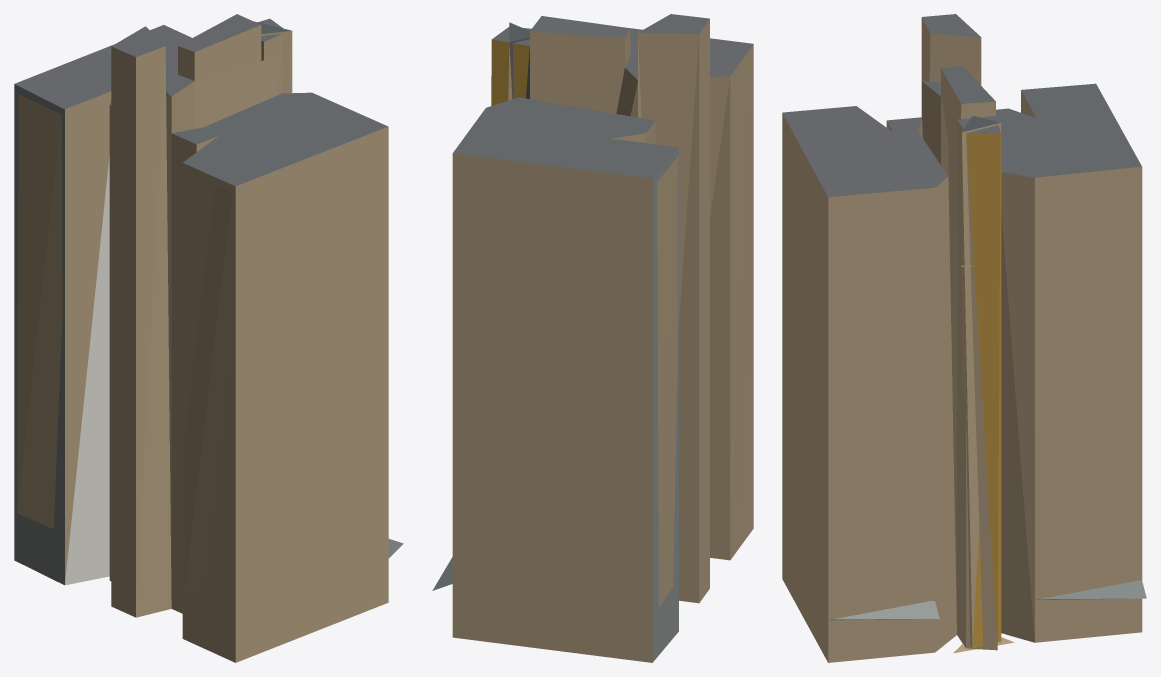
Rendered from wolkenkrabber.lod2.glb.
3 renders of one model, left to right at view 1: azimuth 30°, elevation 25°; view 2: azimuth 150°, elevation 25°; view 3: azimuth 270°, elevation 25°, orthographic. The views are drawn at different scales.
Visible parts, largest first — view 1: lod2; view 2: lod2; view 3: lod2.
Part boxes in pixels (<box>): lod2: <box>14,14,403,662</box>; lod2: <box>432,14,753,662</box>; lod2: <box>782,14,1146,662</box>.
Size of the model in its own units: 22.71 by 47.4 by 28.57.
